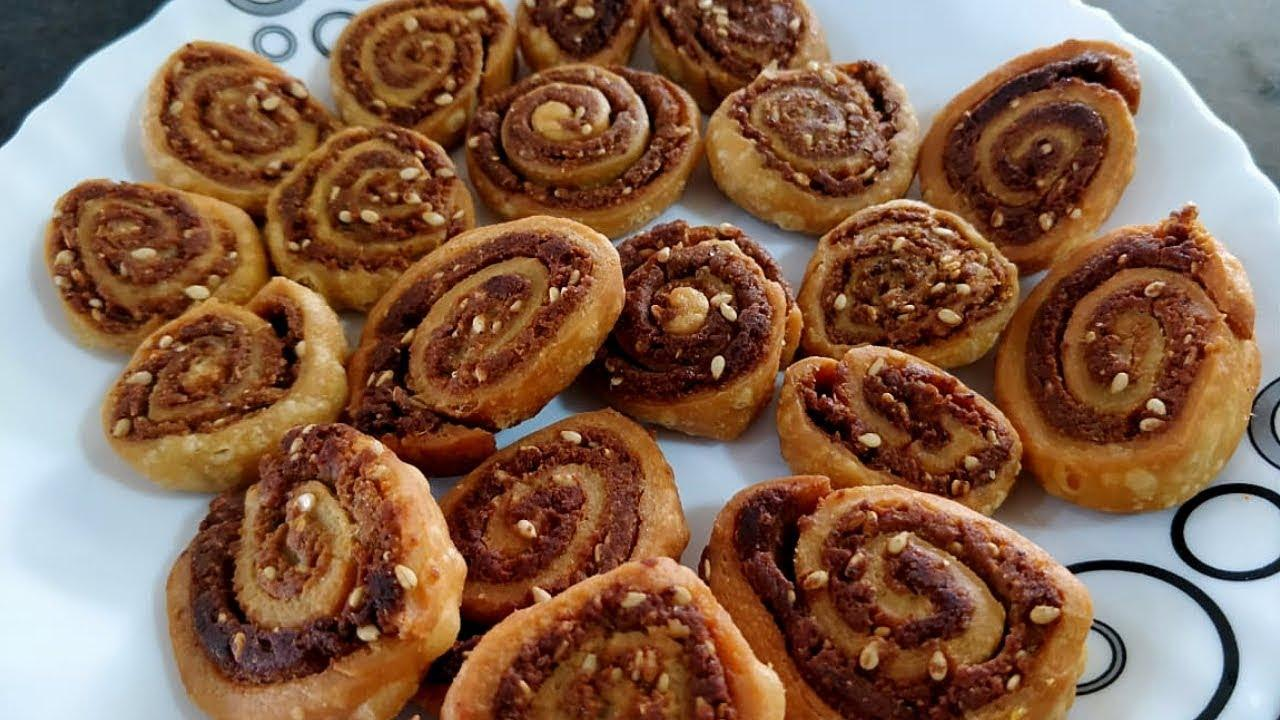bhakarwadi: (46, 0, 1263, 720)
